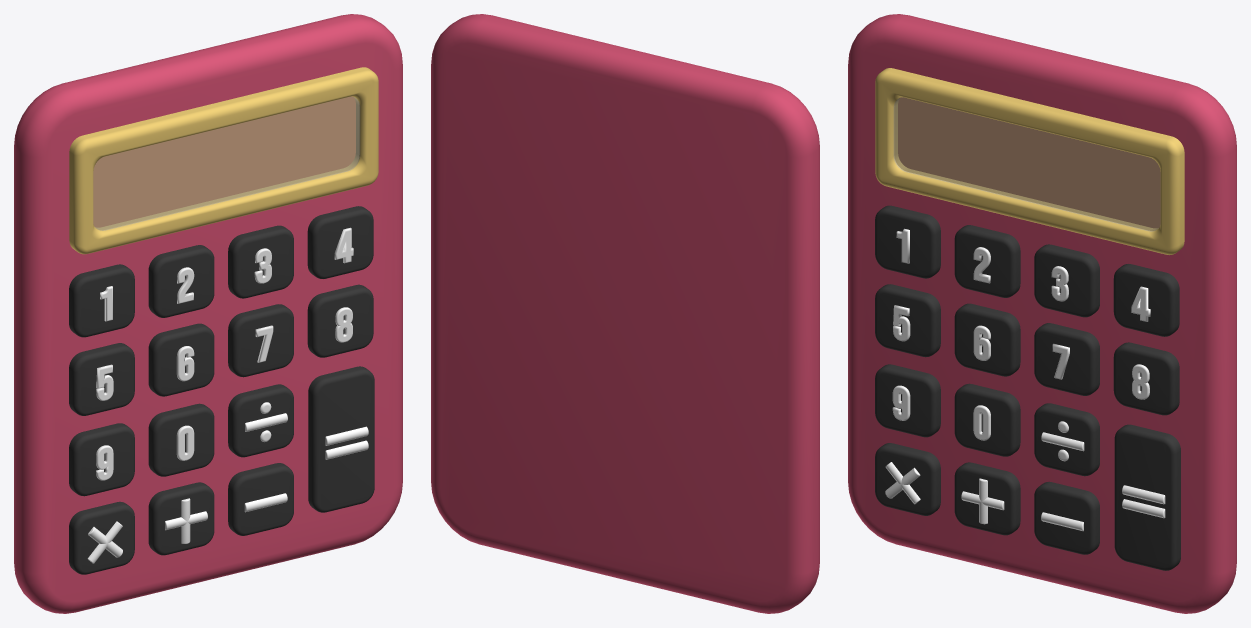
File: calculator22.glb
3 renders of one model, left to right at view 1: azimuth 30°, elevation 25°; view 2: azimuth 150°, elevation 25°; view 3: azimuth 330°, elevation 25°, orthographic.
Parts seen in each view (by area): view 1: Cube.008, Cube.014, Cube.015, Cube.009, Cube.010, Cube.013, Cylinder.018, Text.006, Text.008, Text.004, Text.009, Text.007 (+1 smaller); view 2: Cube.008; view 3: Cube.008, Cube.014, Cube.015, Cube.009, Cube.010, Cube.013, Cylinder.018, Text.008, Text.009, Text.004, Text.006, Text.007 (+1 smaller).
Part boxes in pixels (<box>): Cube.008: <box>14,14,402,613</box>; Cube.014: <box>69,67,378,254</box>; Cube.015: <box>69,206,373,415</box>; Cube.009: <box>69,384,293,574</box>; Cube.010: <box>93,96,360,230</box>; Cube.013: <box>308,366,374,512</box>; Cylinder.018: <box>325,426,368,459</box>; Text.006: <box>176,346,194,381</box>; Text.008: <box>176,425,194,460</box>; Text.004: <box>335,307,352,342</box>; Text.009: <box>96,445,113,480</box>; Text.007: <box>96,364,113,400</box>; Cube.008: <box>431,14,819,613</box>; Cube.008: <box>848,14,1236,613</box>; Cube.014: <box>875,68,1184,254</box>; Cube.015: <box>875,205,1179,415</box>; Cube.009: <box>875,364,1099,554</box>; Cube.010: <box>893,97,1160,231</box>; Cube.013: <box>1114,424,1180,570</box>; Cylinder.018: <box>1122,485,1165,518</box>; Text.008: <box>973,405,990,440</box>; Text.009: <box>892,385,910,420</box>; Text.004: <box>1132,364,1149,399</box>; Text.006: <box>973,325,990,360</box>; Text.007: <box>893,305,910,341</box>.
Bounding box in the file's own units: 7.33 × 9.66 × 1.05.
